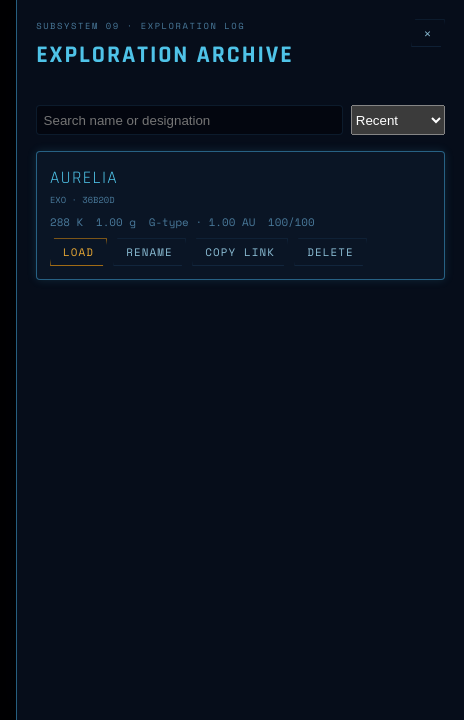
Test: ArchivePanel › filters by name
In the search field labelled "Search name or designation": point(190, 120) [36,105,343,135], type "zzz"
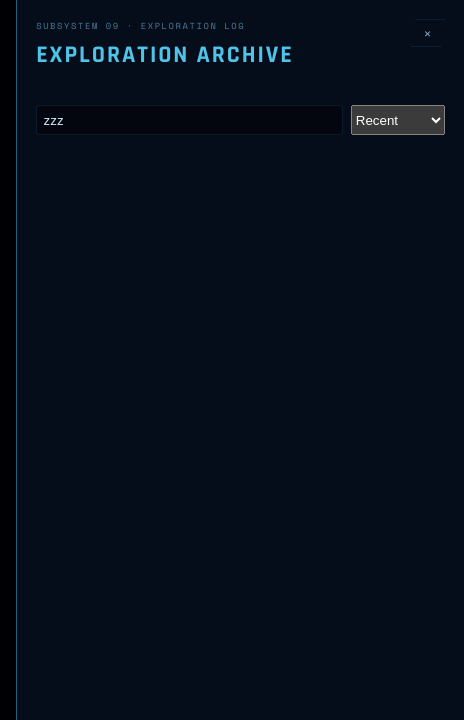
Expected: the text "Aurelia" is gone
